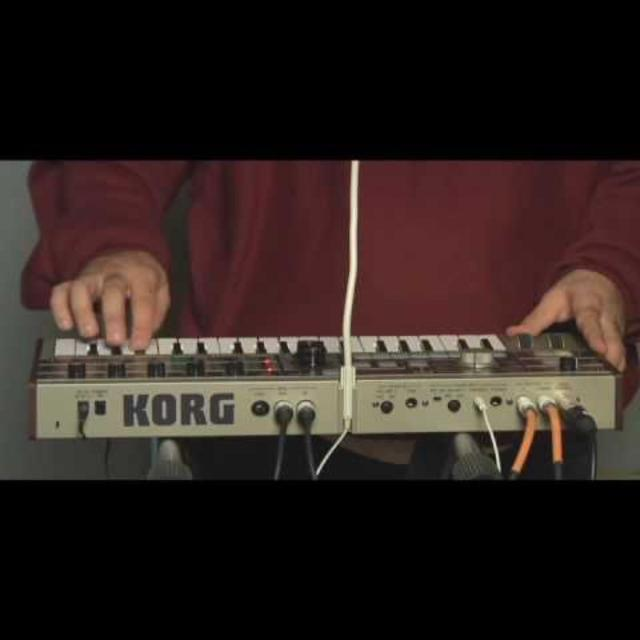Electronic-Keyboard: (19, 319, 619, 457)
